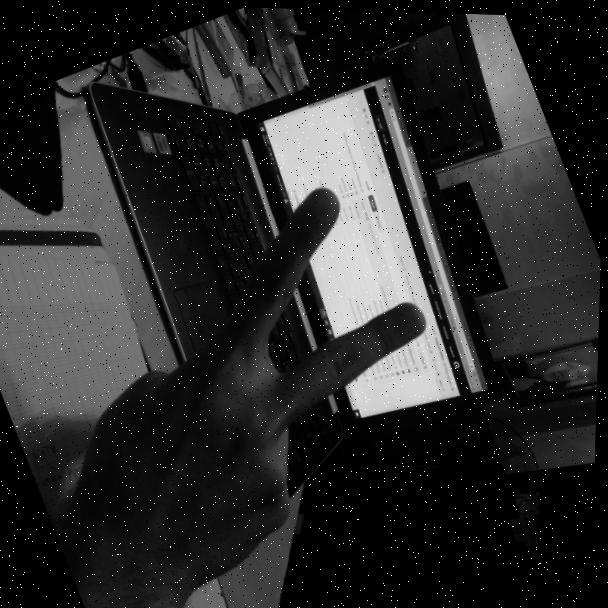two: (31, 150, 498, 602)
